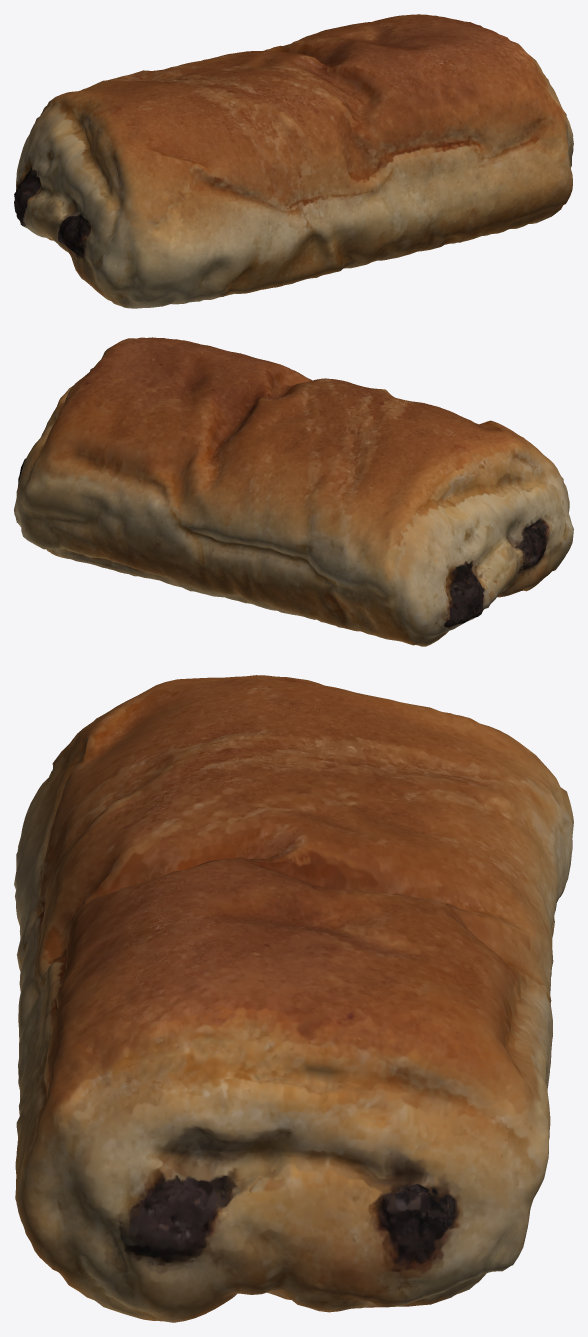
The model's file is uploads_files_3613241_PainAuChoc_LOD1.glb.
3 views of the same model, one above another, from view 1: azimuth 30°, elevation 25°; view 2: azimuth 150°, elevation 25°; view 3: azimuth 270°, elevation 25° (orthographic). The views are drawn at different scales.
Parts seen in each view (by area): view 1: PainAuChoc_LOD1; view 2: PainAuChoc_LOD1; view 3: PainAuChoc_LOD1.
Boxes of the visible parts, bbox=[...] form: PainAuChoc_LOD1: bbox=[14, 14, 573, 308]; PainAuChoc_LOD1: bbox=[14, 337, 573, 646]; PainAuChoc_LOD1: bbox=[14, 675, 573, 1322].
Size of the model in its own units: 1.52 by 0.5241 by 0.844.
1 material, 1 textured.
